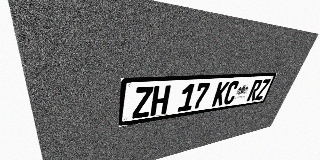1: (177, 84, 197, 112)
7: (191, 83, 211, 110)
C: (222, 81, 240, 105)
H: (150, 85, 171, 116)
K: (211, 81, 230, 107)
R: (246, 79, 263, 101)
Z: (132, 86, 154, 119), (254, 79, 271, 100)
